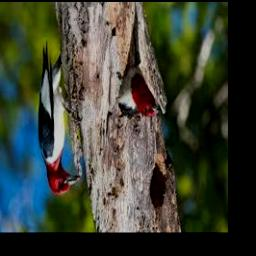Woodpecker: (38, 41, 81, 194), (117, 36, 161, 121)
